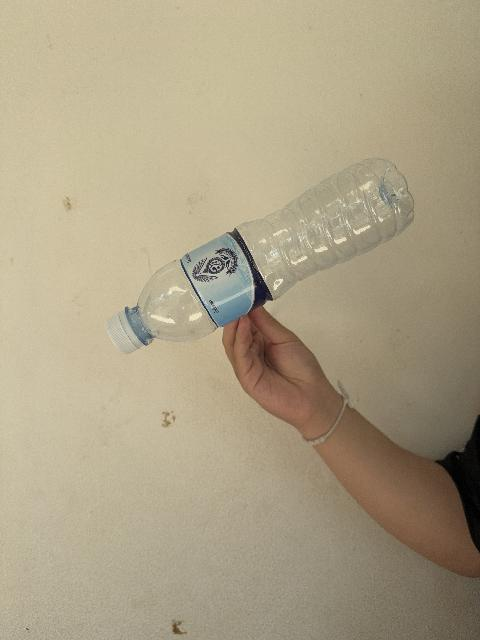bottle: (107, 159, 413, 353)
